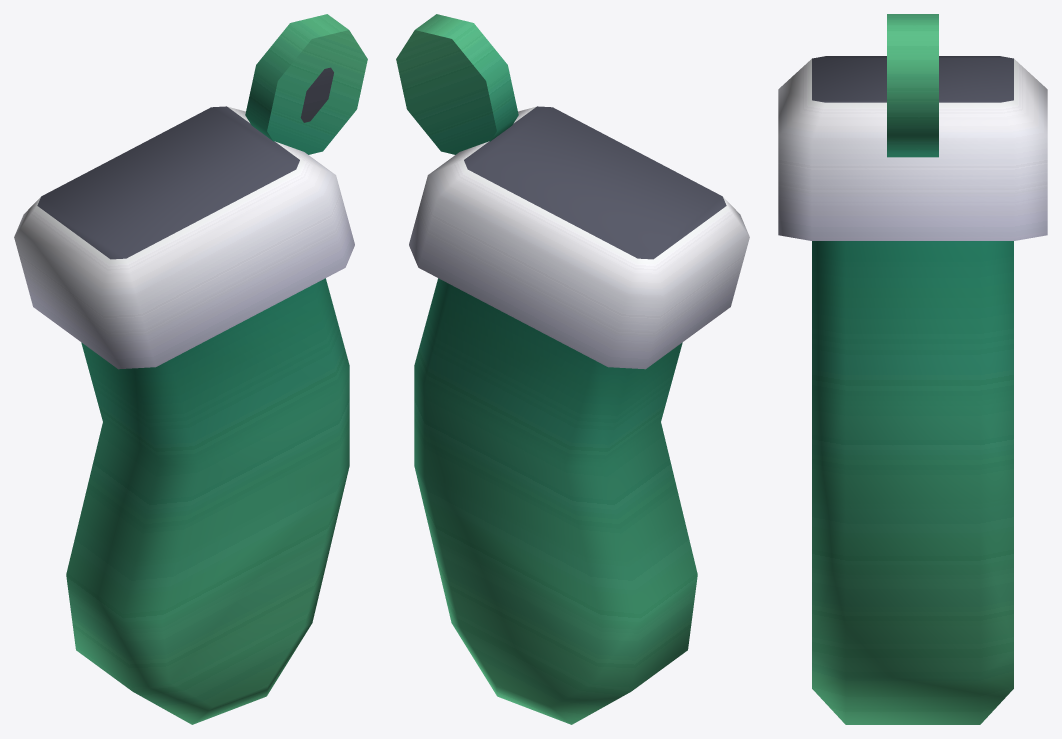
Rendered from sock-green.glb.
The picture shows the model from 3 angles, left to right: view 1: azimuth 30°, elevation 25°; view 2: azimuth 150°, elevation 25°; view 3: azimuth 270°, elevation 25°; orthographic projection. The views are drawn at different scales.
Parts seen in each view (by area): view 1: sock-green; view 2: sock-green; view 3: sock-green.
Part boxes in pixels (x1,y1,x2,y2): sock-green: [14, 14, 367, 724]; sock-green: [396, 14, 749, 724]; sock-green: [778, 14, 1047, 724].
Size of the model in its own units: 0.3061 by 0.6229 by 0.2.
1 material, 1 textured.
